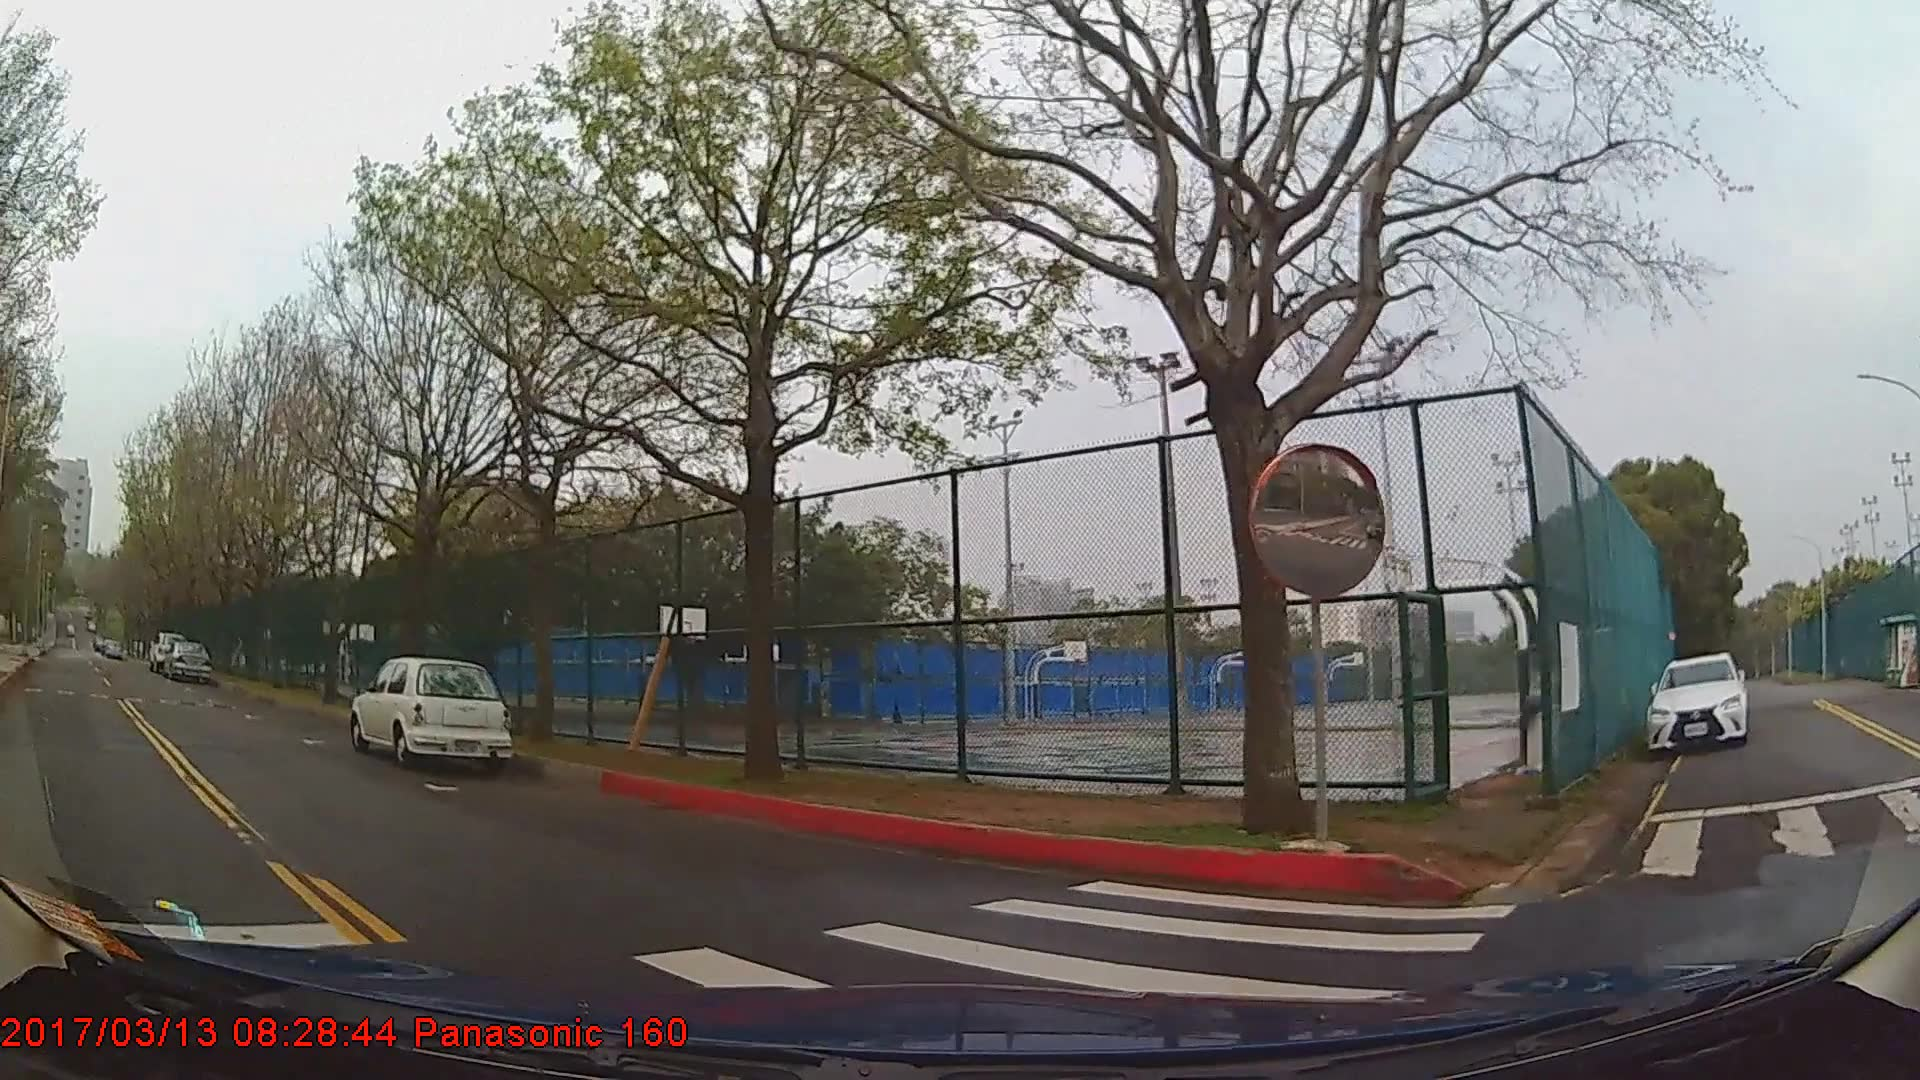vehicle: (349, 655, 512, 764), (1644, 653, 1749, 753), (162, 636, 211, 680)
